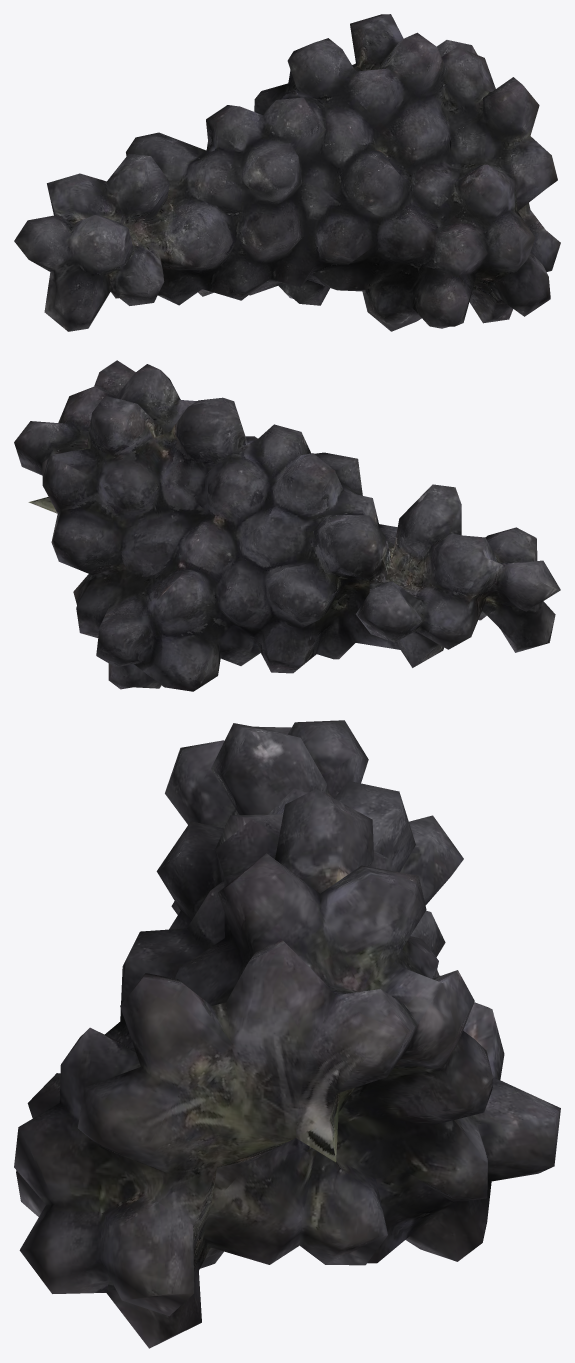
File: grapes.fbx
3 views of the same model, one above another, from view 1: azimuth 30°, elevation 25°; view 2: azimuth 150°, elevation 25°; view 3: azimuth 270°, elevation 25° (orthographic). The views are drawn at different scales.
Visible parts, largest first — view 1: 25_grapes_25_grapes_0; view 2: 25_grapes_25_grapes_0; view 3: 25_grapes_25_grapes_0.
Boxes of the visible parts, x1,y1,x2,y2 form: 25_grapes_25_grapes_0: (14,14,560,331); 25_grapes_25_grapes_0: (14,360,560,691); 25_grapes_25_grapes_0: (14,720,560,1348).
Size of the model in its own units: 33.28 by 17.24 by 19.18.
Materials: 1 (1 with a texture image).
